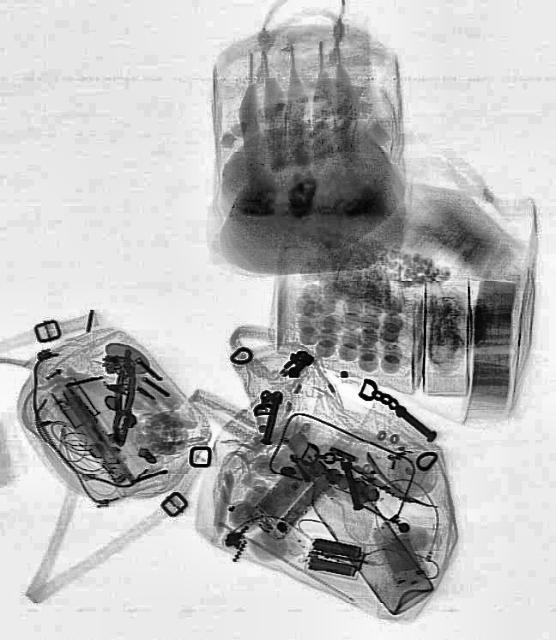Pliers: (108, 366, 138, 446)
